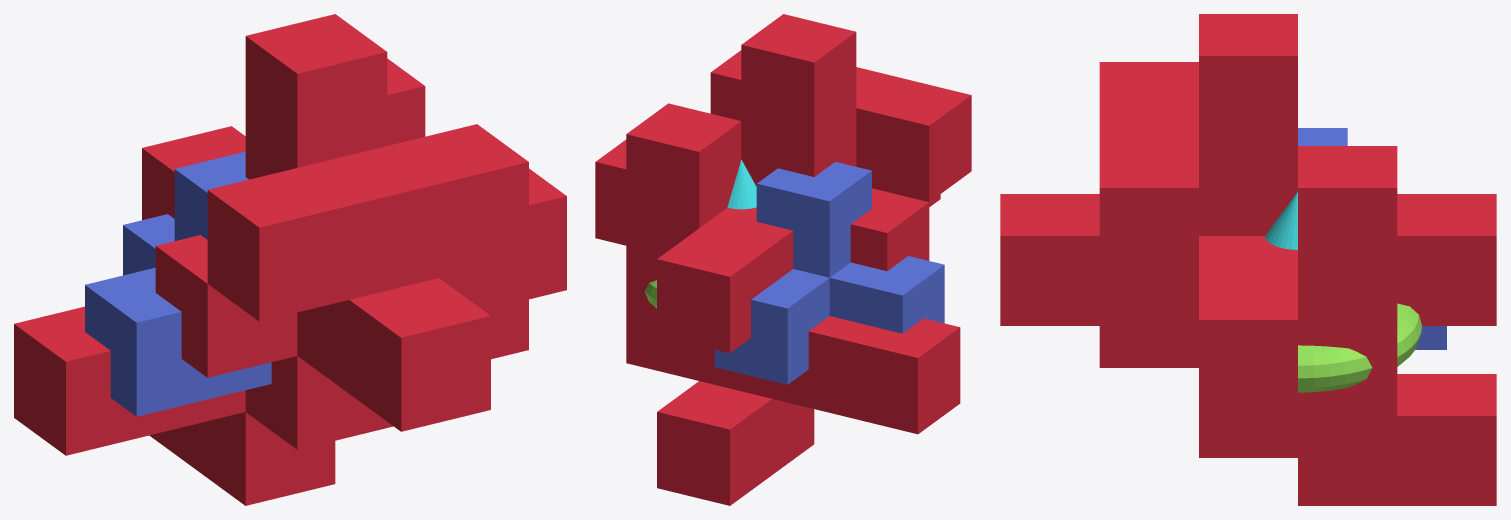
3 renders of one model, left to right at view 1: azimuth 30°, elevation 25°; view 2: azimuth 150°, elevation 25°; view 3: azimuth 270°, elevation 25°, orthographic. The views are drawn at different scales.
Visible parts, largest first — view 1: Random, Cube; view 2: Random, Cube, Cone; view 3: Random, Torus, Cube, Cone.
Part boxes in pixels (left/top/right/bottom): Random: left=14, top=14, right=566, bottom=505; Cube: left=85, top=151, right=271, bottom=416; Random: left=595, top=14, right=971, bottom=505; Cube: left=714, top=162, right=944, bottom=384; Cone: left=727, top=160, right=756, bottom=209; Random: left=1000, top=14, right=1496, bottom=505; Torus: left=1298, top=303, right=1422, bottom=392; Cube: left=1298, top=128, right=1446, bottom=349; Cone: left=1265, top=191, right=1297, bottom=249.
Size of the model in its own units: 500 by 500 by 500.
